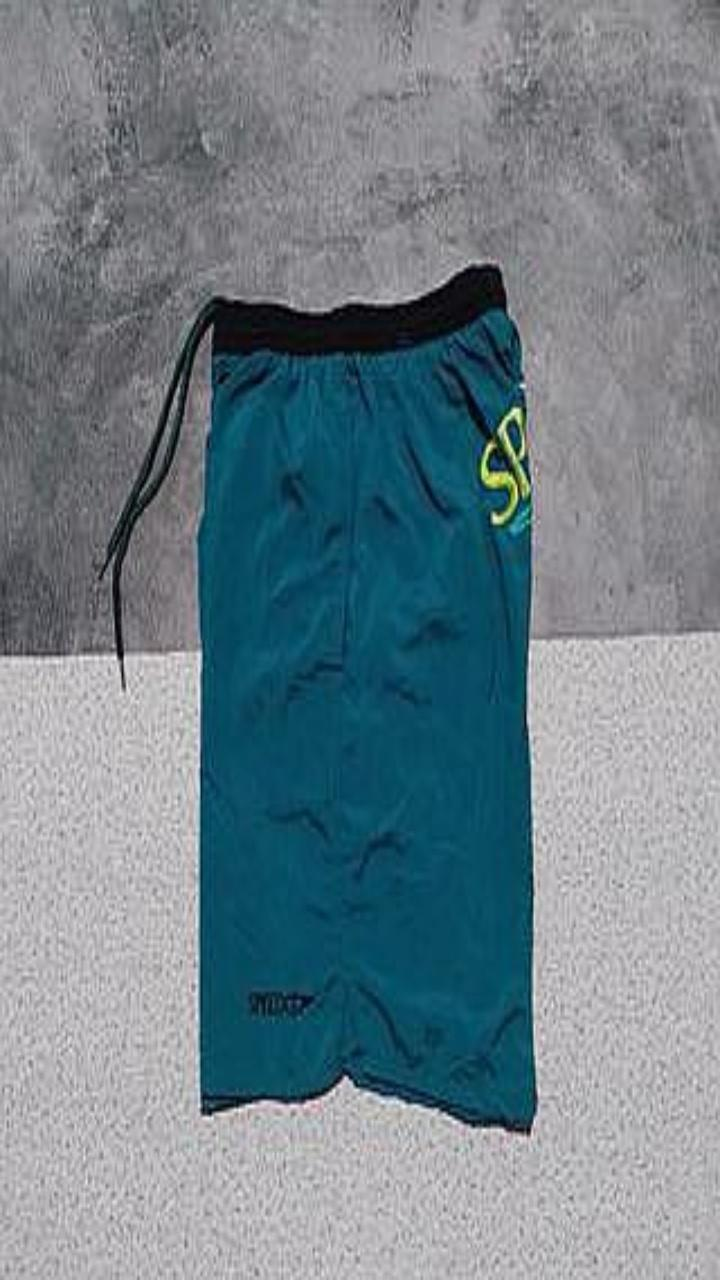Shorts: (191, 263, 536, 1131)
